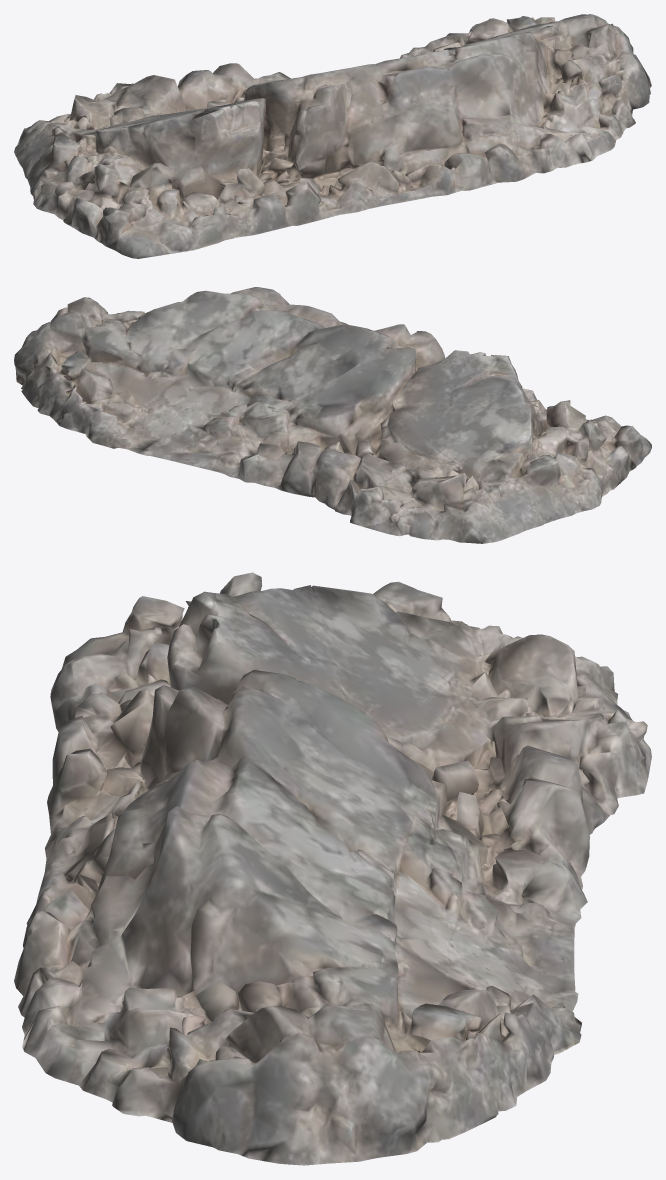
The model's file is rock_formation_medium_e.glb.
3 renders of one model, top to bottom at view 1: azimuth 30°, elevation 25°; view 2: azimuth 150°, elevation 25°; view 3: azimuth 270°, elevation 25°, orthographic. The views are drawn at different scales.
Parts seen in each view (by area): view 1: rock_formation_mid_e_LOD0; view 2: rock_formation_mid_e_LOD0; view 3: rock_formation_mid_e_LOD0.
Boxes of the visible parts, box(x1,y1,x2,y2) form: rock_formation_mid_e_LOD0: box(14, 14, 651, 258); rock_formation_mid_e_LOD0: box(14, 287, 651, 543); rock_formation_mid_e_LOD0: box(14, 572, 651, 1165).
Bounding box in the file's own units: 17.39 × 2.62 × 8.91.
1 material, 1 textured.
